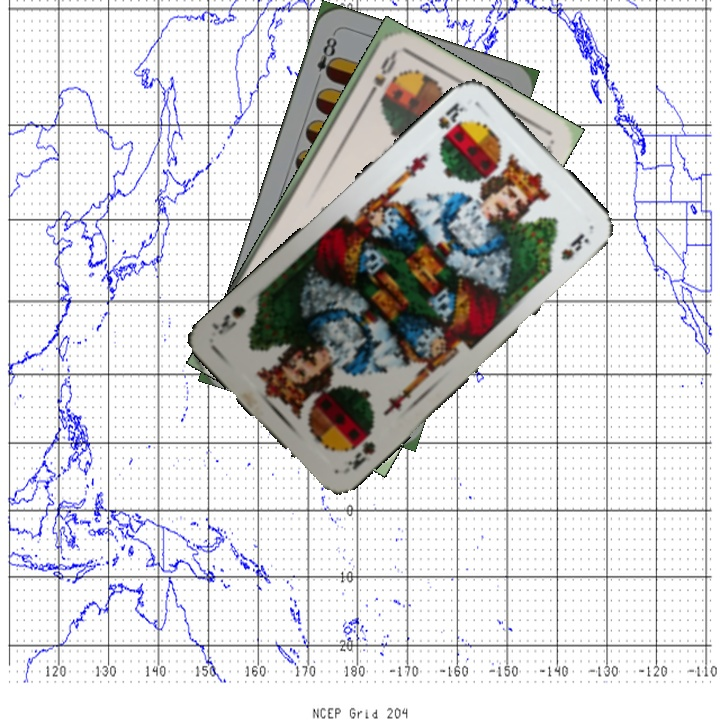E8: (311, 30, 340, 86)
SK: (338, 437, 379, 477), (433, 98, 471, 132)
SO: (362, 49, 399, 103)
